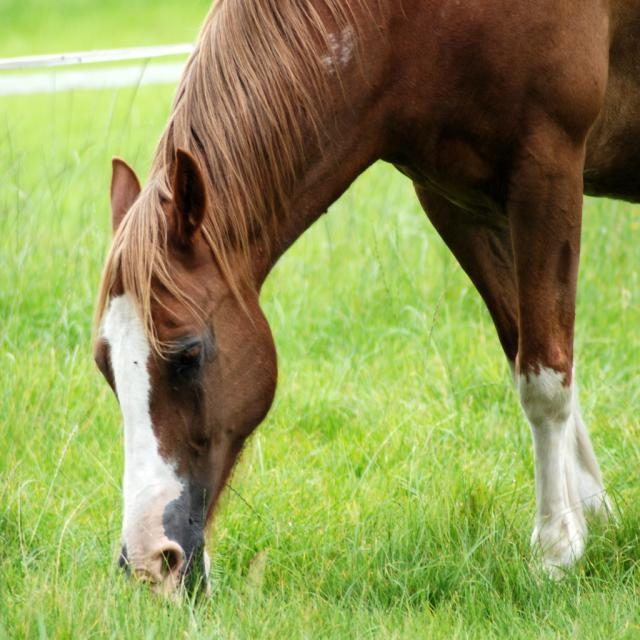Horse: (88, 0, 640, 631)
